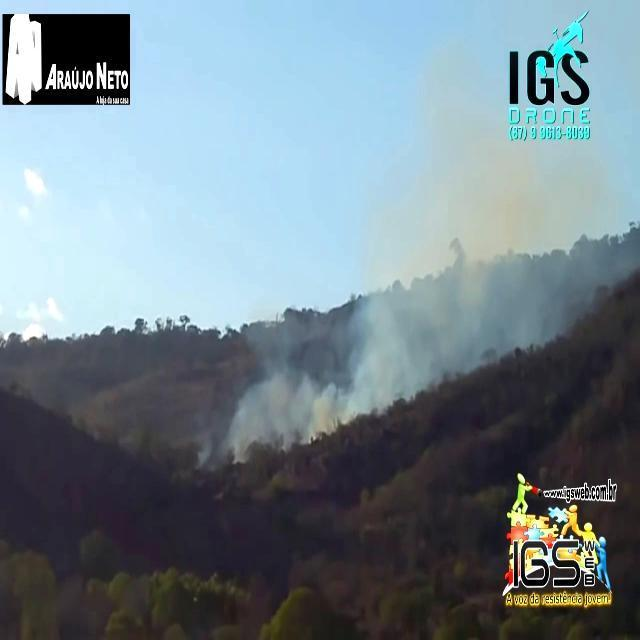Smoke: (357, 2, 634, 414), (230, 317, 359, 466)
